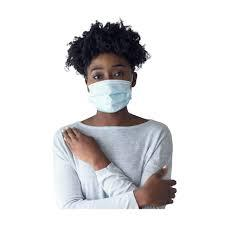mask: (88, 78, 135, 113)
